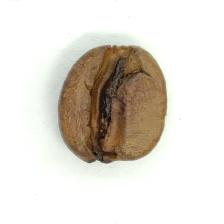NG: (84, 46, 155, 154)
